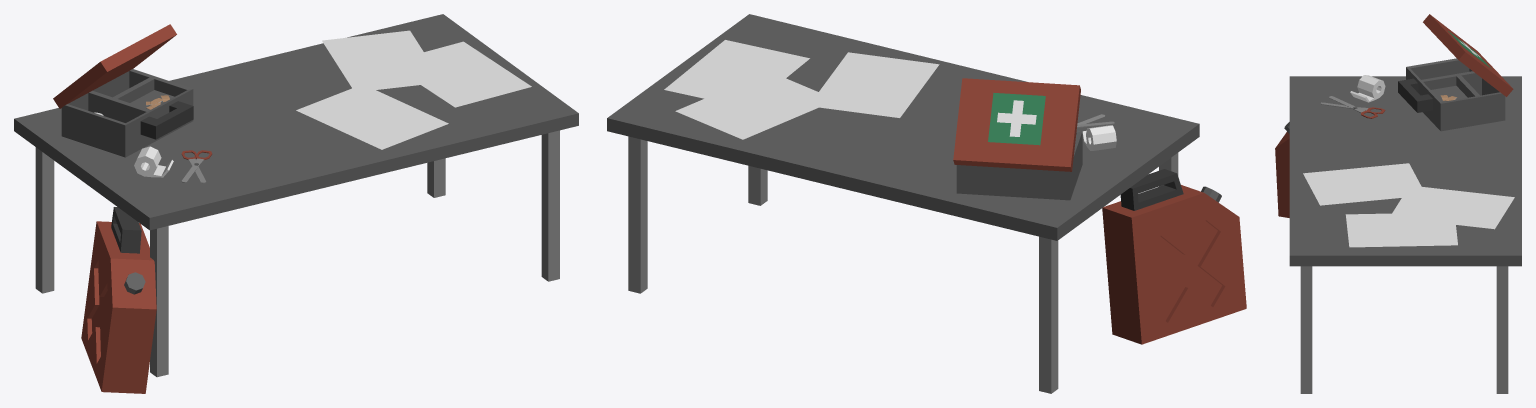
The model's file is desk.glb.
3 renders of one model, left to right at view 1: azimuth 30°, elevation 25°; view 2: azimuth 150°, elevation 25°; view 3: azimuth 270°, elevation 25°, orthographic. The views are drawn at different scales.
Parts seen in each view (by area): view 1: Cube.009; view 2: Cube.009; view 3: Cube.009.
Boxes of the visible parts, bbox=[...] form: Cube.009: bbox=[14, 14, 578, 393]; Cube.009: bbox=[607, 14, 1246, 393]; Cube.009: bbox=[1275, 14, 1521, 393].
Bounding box in the file's own units: 3.09 × 1.6 × 1.62.
